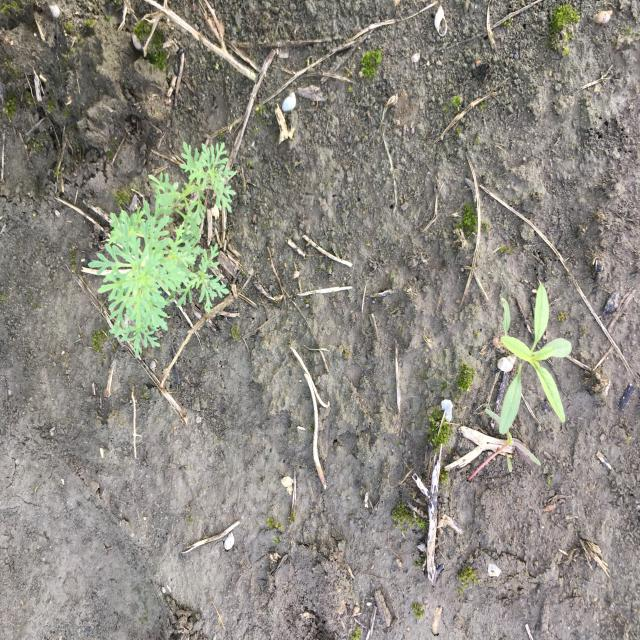Ragweed: (86, 141, 238, 361)
Waterhemp: (498, 282, 573, 436)
